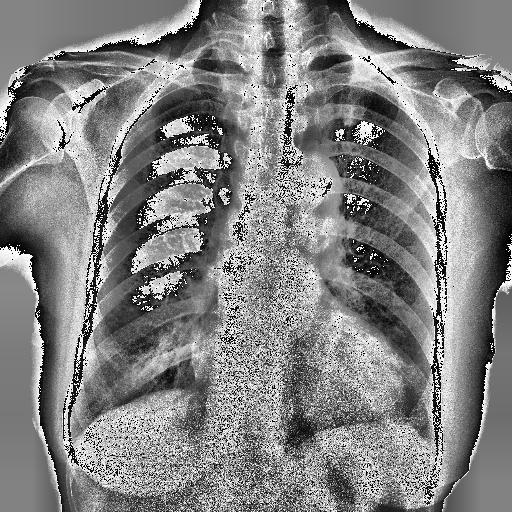0- Aortic enlargement: (278, 148, 342, 240), (286, 150, 346, 246), (284, 150, 344, 227)
3- Cardiomegaly: (190, 321, 408, 423), (188, 339, 416, 428), (189, 331, 406, 419)
